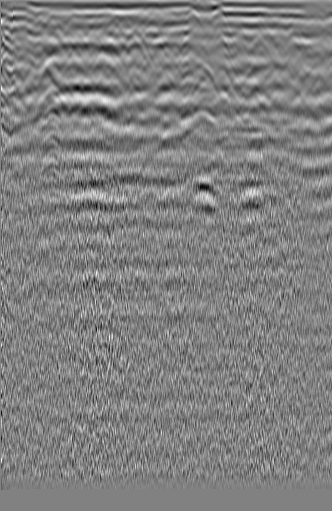가스: (184, 176, 217, 210)
상수: (279, 34, 307, 67)
오수: (4, 18, 38, 54)
우수: (148, 34, 176, 60)
